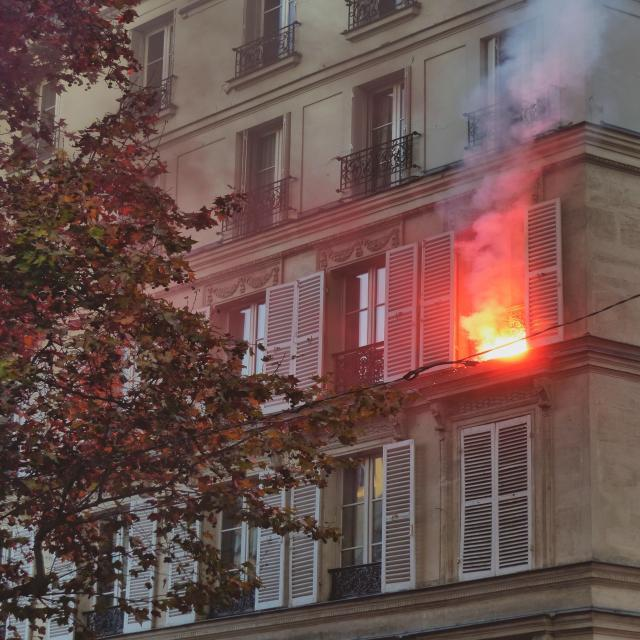Fire: (458, 302, 534, 372)
Smoke: (443, 0, 623, 302)
